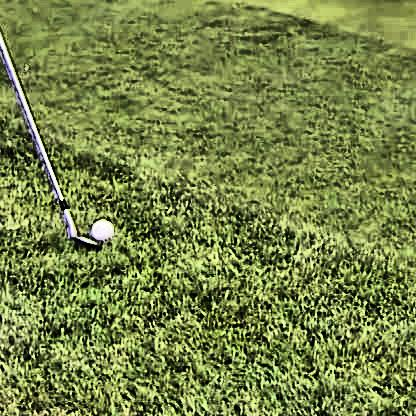golfball: (86, 214, 111, 239)
